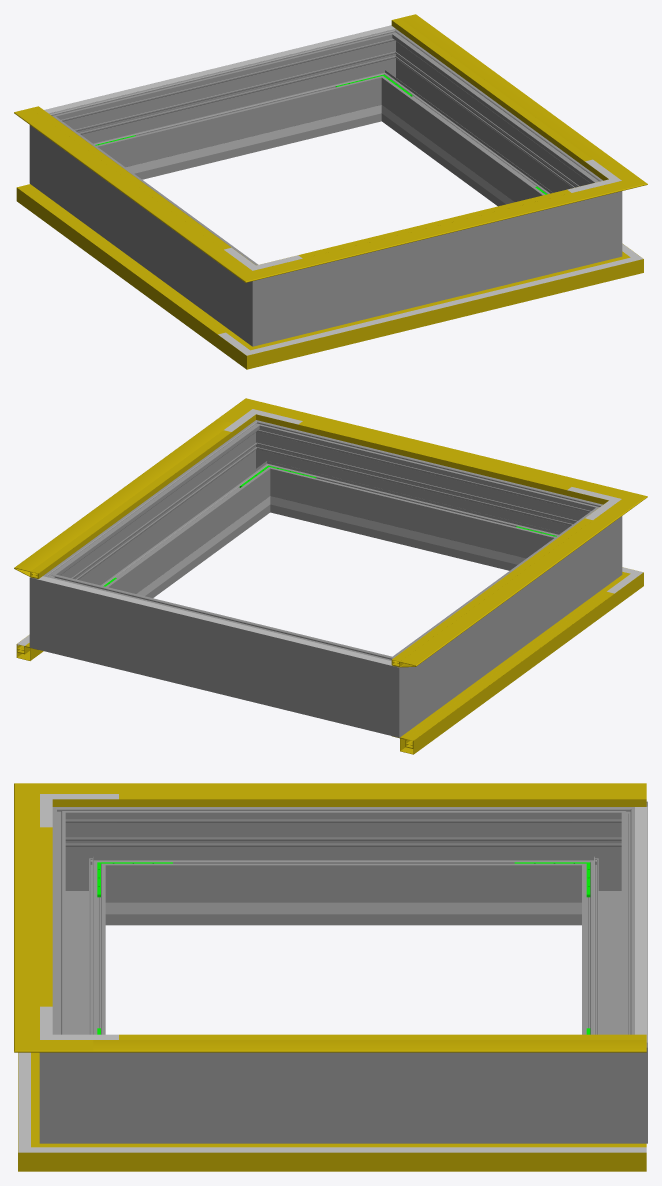
3 views of the same model, one above another, from view 1: azimuth 30°, elevation 25°; view 2: azimuth 150°, elevation 25°; view 3: azimuth 270°, elevation 25° (orthographic). The views are drawn at different scales.
Visible parts, largest first — view 1: 3DGeom-277, 3DGeom-299, 3DGeom-298, 3DGeom-269, 3DGeom-11, 3DGeom-271, 3DGeom-145, 3DGeom-6, 3DGeom-147, 3DGeom-291, 3DGeom-285, 3DGeom-141 (+14 smaller); view 2: 3DGeom-299, 3DGeom-277, 3DGeom-298, 3DGeom-269, 3DGeom-279, 3DGeom-141, 3DGeom-145, 3DGeom-6, 3DGeom-285, 3DGeom-147, 3DGeom-291, 3DGeom-271 (+11 smaller); view 3: 3DGeom-269, 3DGeom-298, 3DGeom-16, 3DGeom-147, 3DGeom-277, 3DGeom-299, 3DGeom-285, 3DGeom-291, 3DGeom-145, 3DGeom-279, 3DGeom-271, 3DGeom-141 (+16 smaller).
Part boxes in pixels (left/top/right/bottom): 3DGeom-277: left=85, top=39, right=373, bottom=179; 3DGeom-299: left=303, top=203, right=571, bottom=334; 3DGeom-298: left=386, top=46, right=584, bottom=206; 3DGeom-269: left=58, top=130, right=239, bottom=325; 3DGeom-11: left=289, top=265, right=593, bottom=357; 3DGeom-271: left=223, top=251, right=302, bottom=346; 3DGeom-145: left=391, top=14, right=617, bottom=173; 3DGeom-6: left=16, top=184, right=230, bottom=347; 3DGeom-147: left=14, top=108, right=232, bottom=261; 3DGeom-291: left=572, top=167, right=622, bottom=268; 3DGeom-285: left=354, top=29, right=419, bottom=124; 3DGeom-141: left=287, top=189, right=597, bottom=270; 3DGeom-299: left=278, top=430, right=567, bottom=570; 3DGeom-277: left=80, top=583, right=358, bottom=725; 3DGeom-298: left=67, top=437, right=265, bottom=597; 3DGeom-269: left=412, top=522, right=593, bottom=715; 3DGeom-279: left=349, top=642, right=428, bottom=737; 3DGeom-141: left=281, top=410, right=596, bottom=499; 3DGeom-145: left=14, top=419, right=241, bottom=578; 3DGeom-6: left=392, top=590, right=614, bottom=754; 3DGeom-285: left=29, top=558, right=89, bottom=659; 3DGeom-147: left=391, top=513, right=618, bottom=667; 3DGeom-291: left=232, top=420, right=297, bottom=515; 3DGeom-271: left=548, top=496, right=622, bottom=595; 3DGeom-269: left=119, top=807, right=568, bottom=925; 3DGeom-298: left=119, top=1052, right=568, bottom=1143; 3DGeom-16: left=97, top=1143, right=646, bottom=1171; 3DGeom-147: left=93, top=783, right=646, bottom=806; 3DGeom-277: left=582, top=835, right=647, bottom=1034; 3DGeom-299: left=52, top=835, right=105, bottom=1034; 3DGeom-285: left=568, top=1014, right=647, bottom=1143; 3DGeom-291: left=39, top=1014, right=118, bottom=1143; 3DGeom-145: left=93, top=1040, right=646, bottom=1052; 3DGeom-279: left=568, top=801, right=647, bottom=925; 3DGeom-271: left=52, top=807, right=118, bottom=925; 3DGeom-141: left=14, top=816, right=39, bottom=1017.
Size of the model in its own units: 1.22 by 0.2596 by 1.22.
